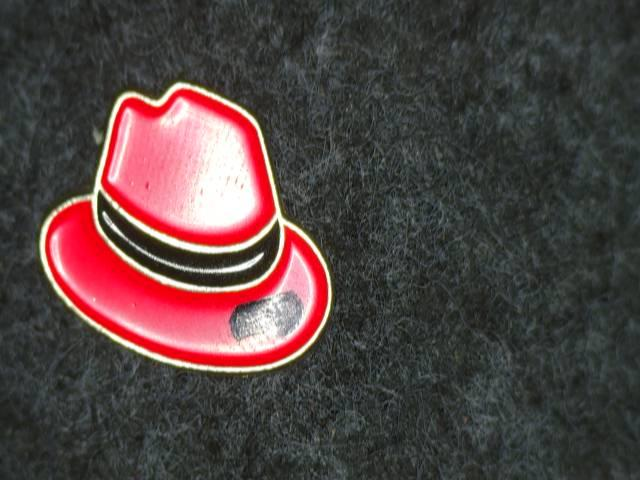Red-Hat: (27, 65, 366, 406)
Scratch: (222, 271, 308, 362)
